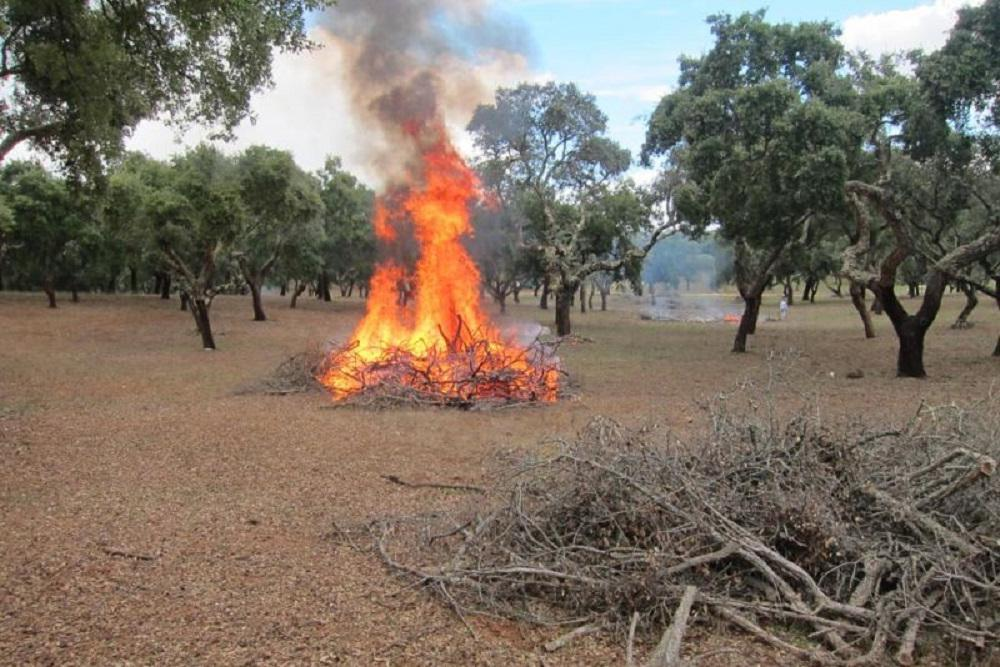Fire: (325, 158, 561, 399)
